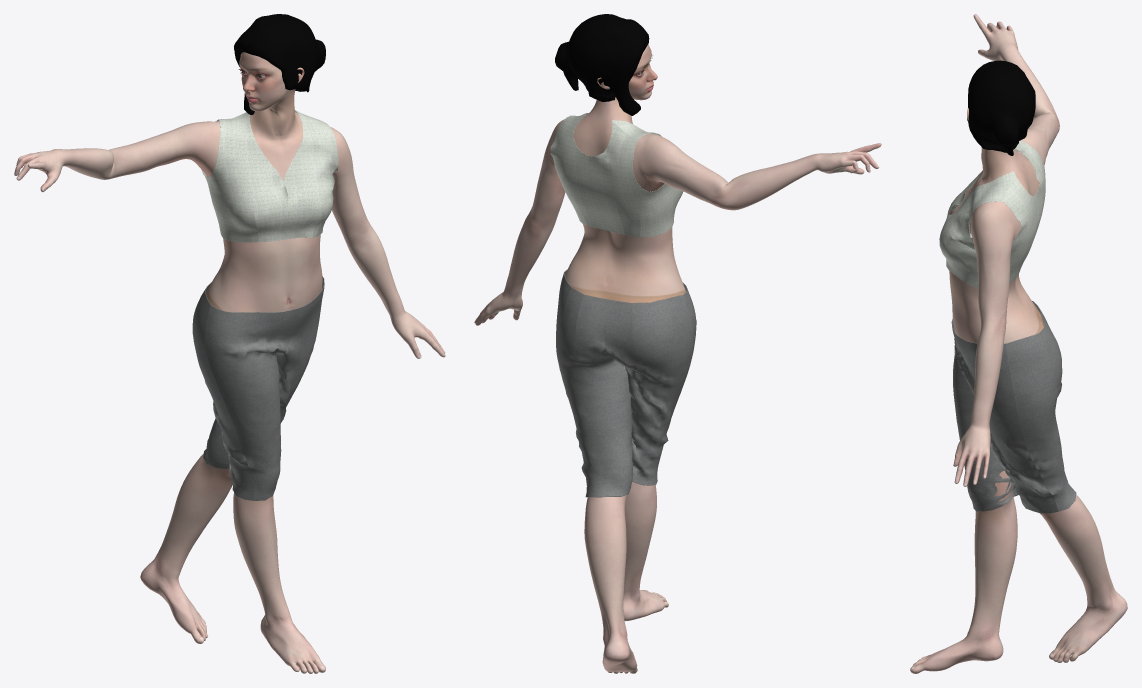
The model's file is Dynamic_2.obj.
3 renders of one model, left to right at view 1: azimuth 30°, elevation 25°; view 2: azimuth 150°, elevation 25°; view 3: azimuth 270°, elevation 25°, orthographic. The views are drawn at different scales.
Bounding box in the file's own units: 1226 × 1775 × 569.
